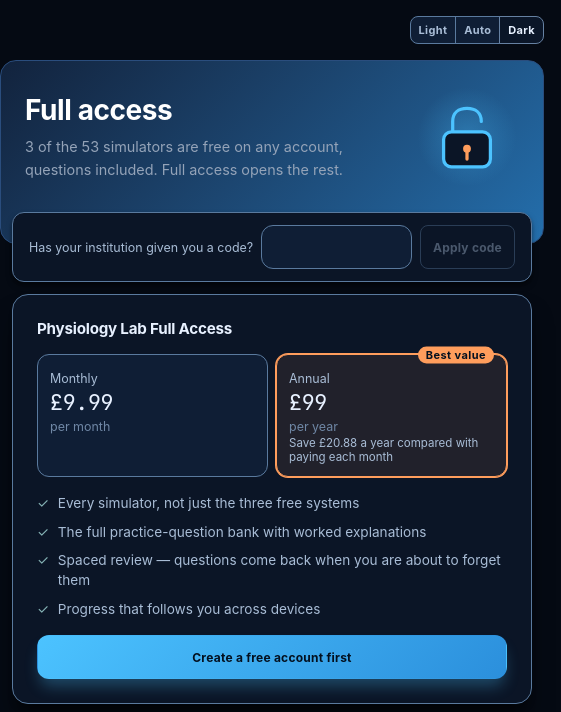
pricing page › reports a rejected code without claiming anything was unlocked
The width and height of the screenshot is (561, 712).
Step 1. Type "WRONGCODE1" into the field labelled "Has your institution given you a code?" → (337, 247), box 261,225 -> 412,269
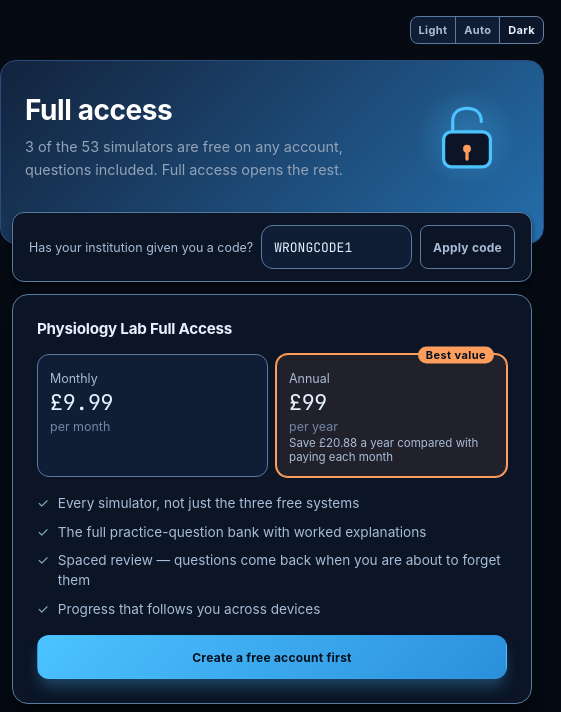
Step 2. Click the button "Apply code" → (467, 247), box 420,225 -> 515,269
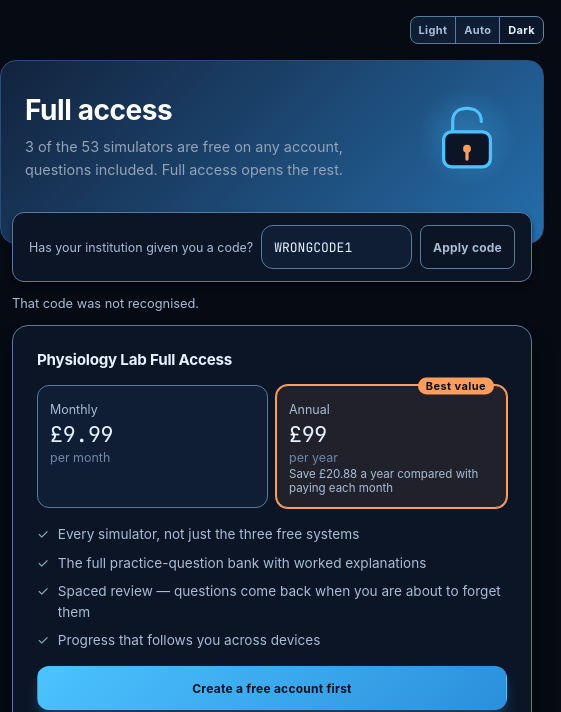
Expected: the text "That code was not recognised." is shown, 12,296 -> 199,311
